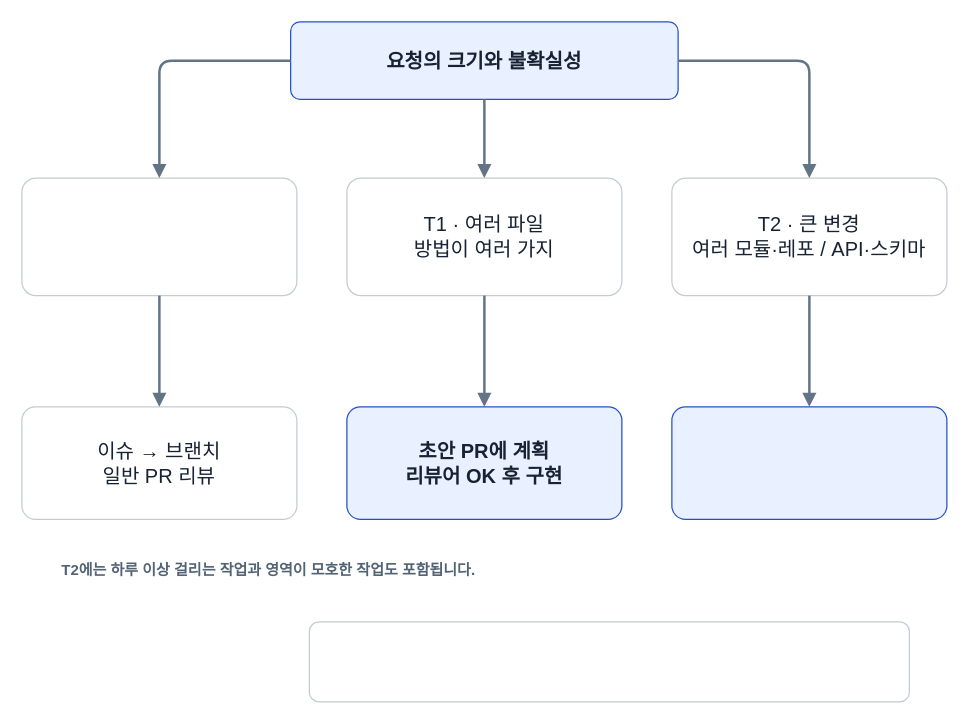
Image size: 969x724. Some labels were removed from this diagram. Here are the shapes that lost their labels. From the top down, the centre of each, then its label:
the point at 159,236: T0 · 작은 변경 한 문장으로 설명 가능
the point at 809,462: 1쪽 설계 PR 설계 머지 후 구현 PR
the point at 608,661: 큰 작업은 시작 전 겹침 확인 같은 영역의 담당자와 먼저 조율
